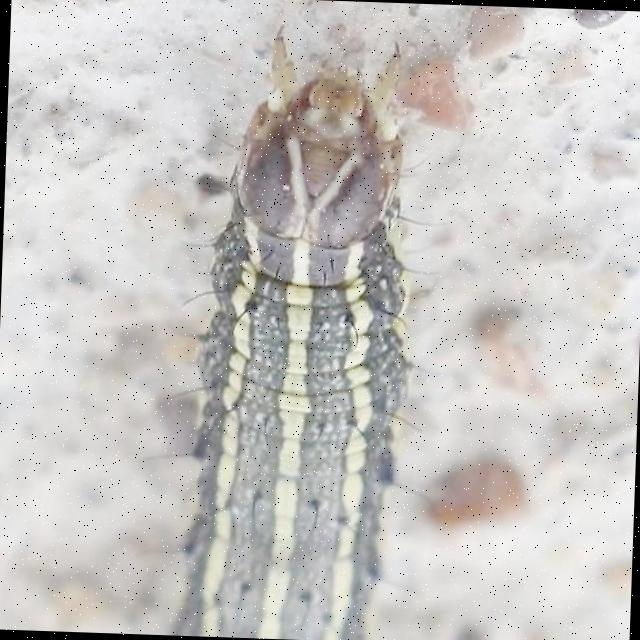worm: (142, 22, 447, 640)
